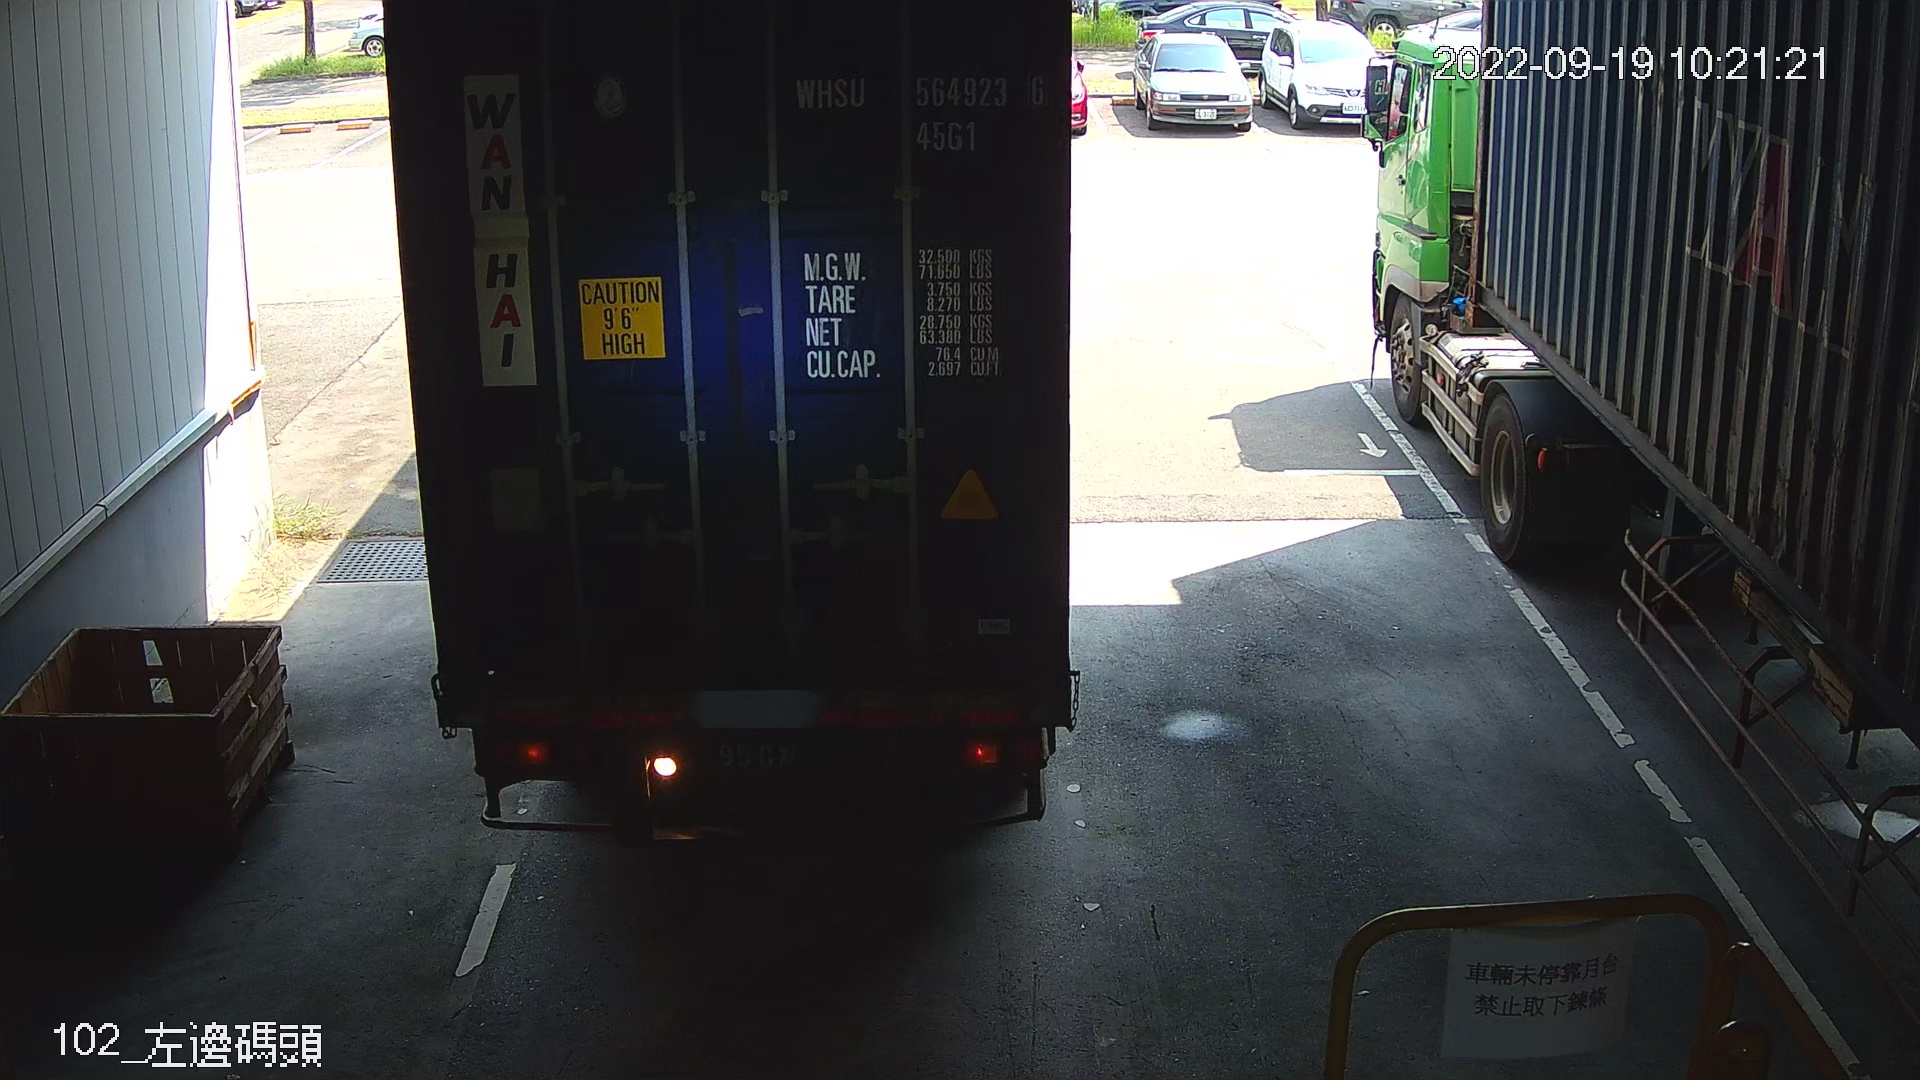container: (785, 65, 1054, 161)
